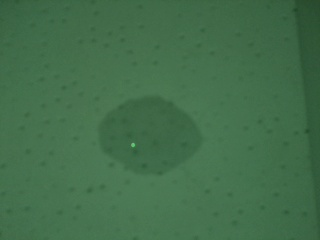Water_detected: (105, 102, 184, 168)
